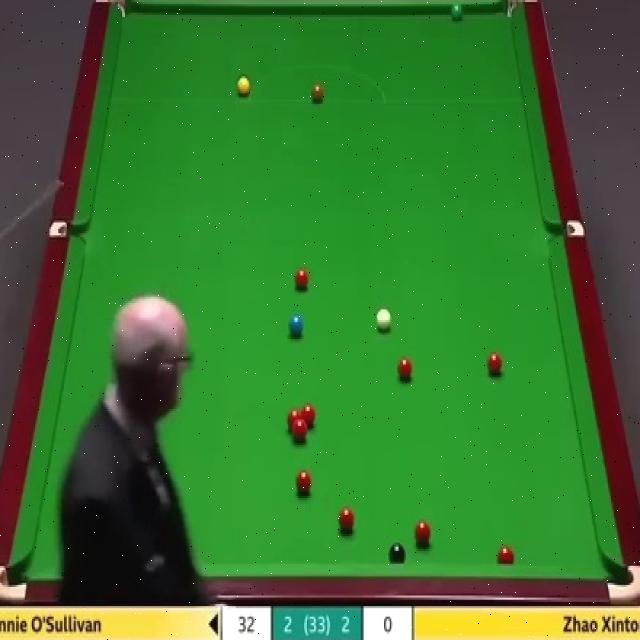black-ball: (386, 542, 405, 566)
blue-ball: (287, 314, 304, 340)
brown-ball: (309, 81, 324, 105)
green-ball: (450, 1, 466, 22)
red-ball: (396, 354, 414, 384), (294, 470, 312, 499), (413, 520, 431, 548), (336, 507, 354, 535), (294, 269, 311, 294), (487, 350, 502, 378), (302, 404, 316, 430), (498, 544, 514, 565), (293, 422, 307, 443), (287, 409, 301, 430)
white-ball: (373, 306, 392, 336)
yellow-ball: (235, 76, 250, 96)
